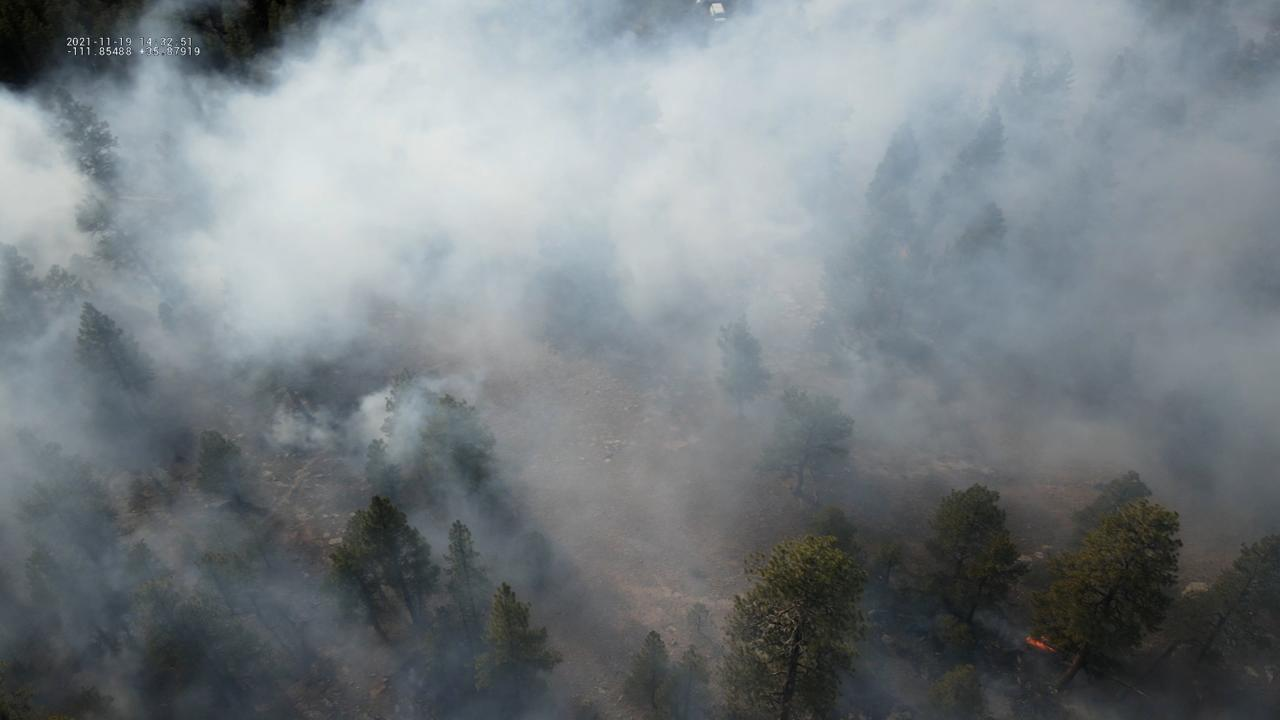fire: (1025, 632, 1058, 655)
smoke: (0, 0, 1280, 720)
